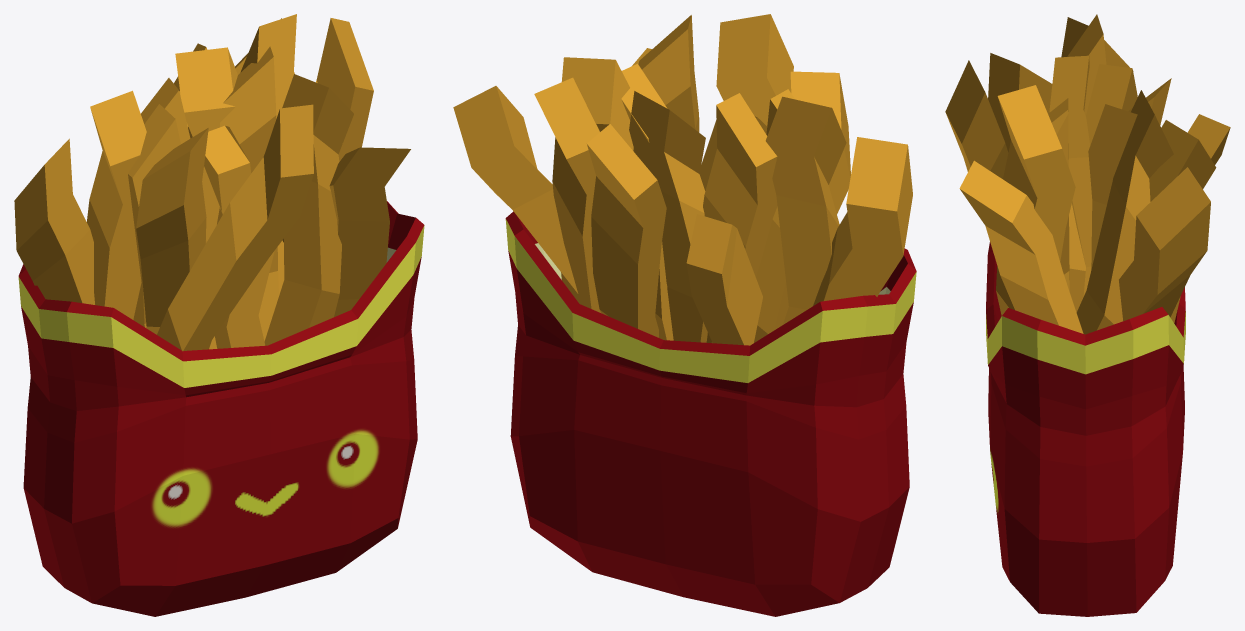
Rendered from fries.fbx.
3 views of the same model, side by side, from view 1: azimuth 30°, elevation 25°; view 2: azimuth 150°, elevation 25°; view 3: azimuth 270°, elevation 25° (orthographic). The views are drawn at different scales.
Parts seen in each view (by area): view 1: container, Cube; view 2: container, Cube; view 3: Cube, container.
Part boxes in pixels (bbox=[...]): container: bbox=[18, 201, 424, 616]; Cube: bbox=[14, 14, 410, 351]; container: bbox=[505, 211, 916, 616]; Cube: bbox=[453, 14, 912, 345]; Cube: bbox=[945, 14, 1230, 334]; container: bbox=[986, 242, 1185, 616].
Bounding box in the file's own units: 226 × 289 × 145.
Materials: 4 (1 with a texture image).
